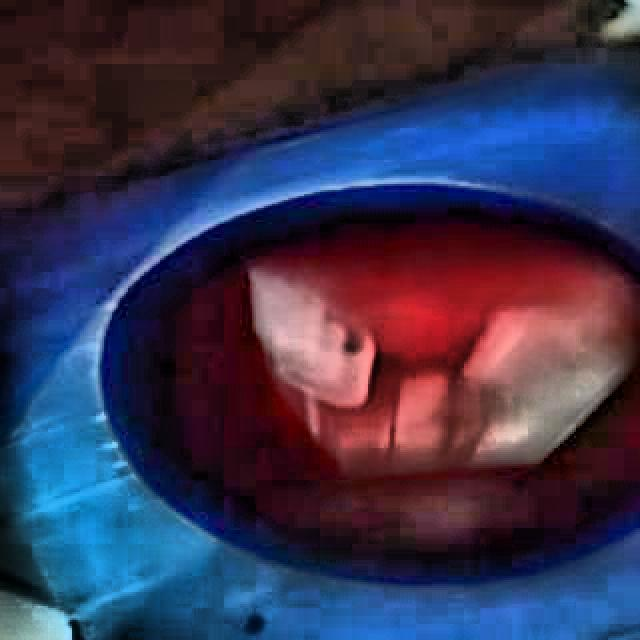metal: (251, 245, 640, 477)
